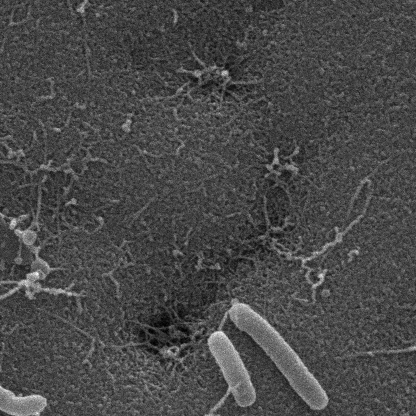cell2cell: (218, 304, 229, 335)
cell2surface: (184, 382, 247, 416), (0, 281, 29, 307), (0, 245, 7, 293), (0, 334, 3, 377)
regular: (229, 304, 329, 410), (206, 331, 253, 406)
